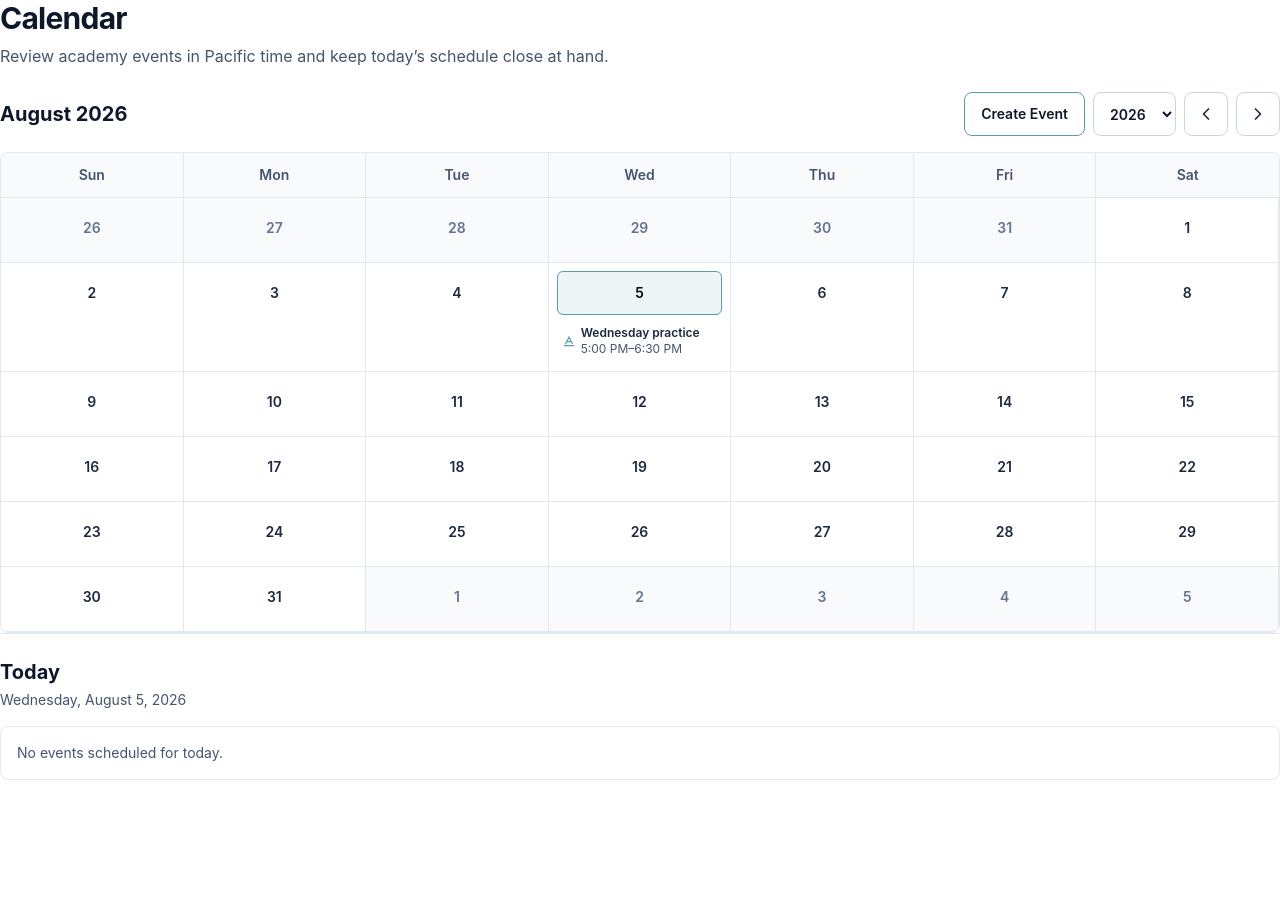
Test: CalendarPage › shows create, edit, and delete actions only to coaches
Step 1. Click the button "Create Event" → (1025, 114), box 964,92 -> 1085,136
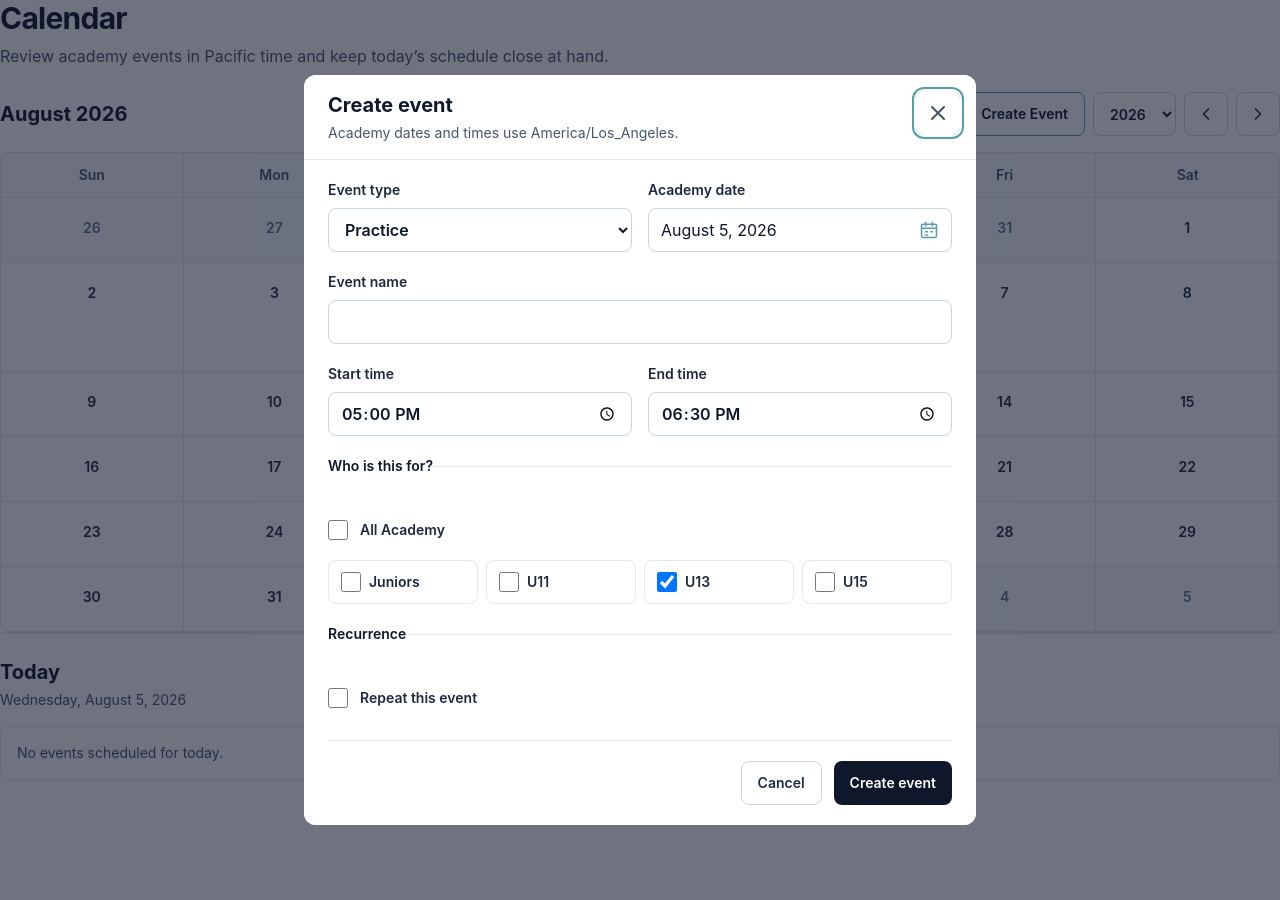
Result: the dialog "Create event" is shown at 304,75 -> 976,825
Step 2. Click the button named "Close create event" → (938, 113), box 916,91 -> 960,135
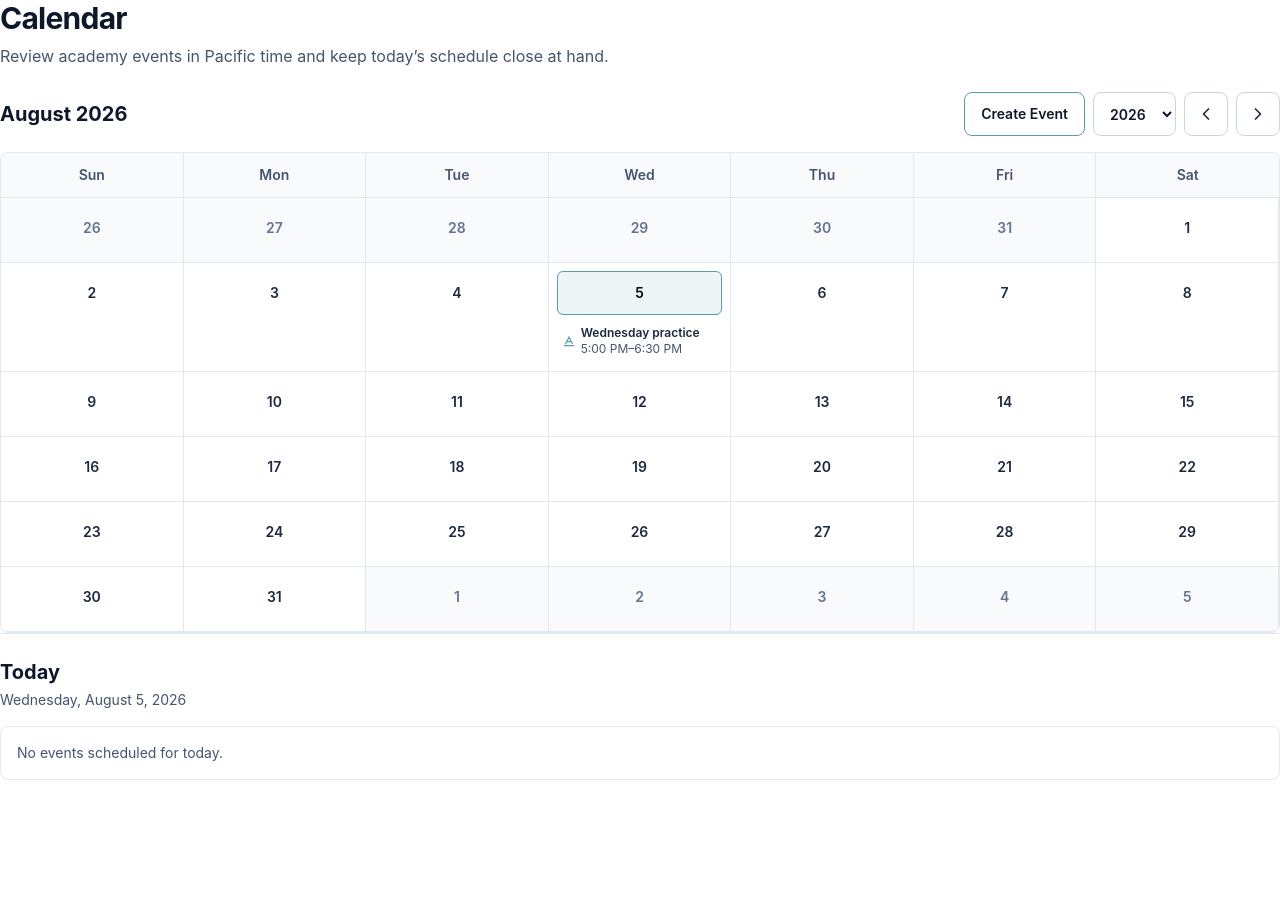
Step 3. Click the button with aria-label "Practice event: Wednesday practice" → (640, 341), box 557,319 -> 722,363
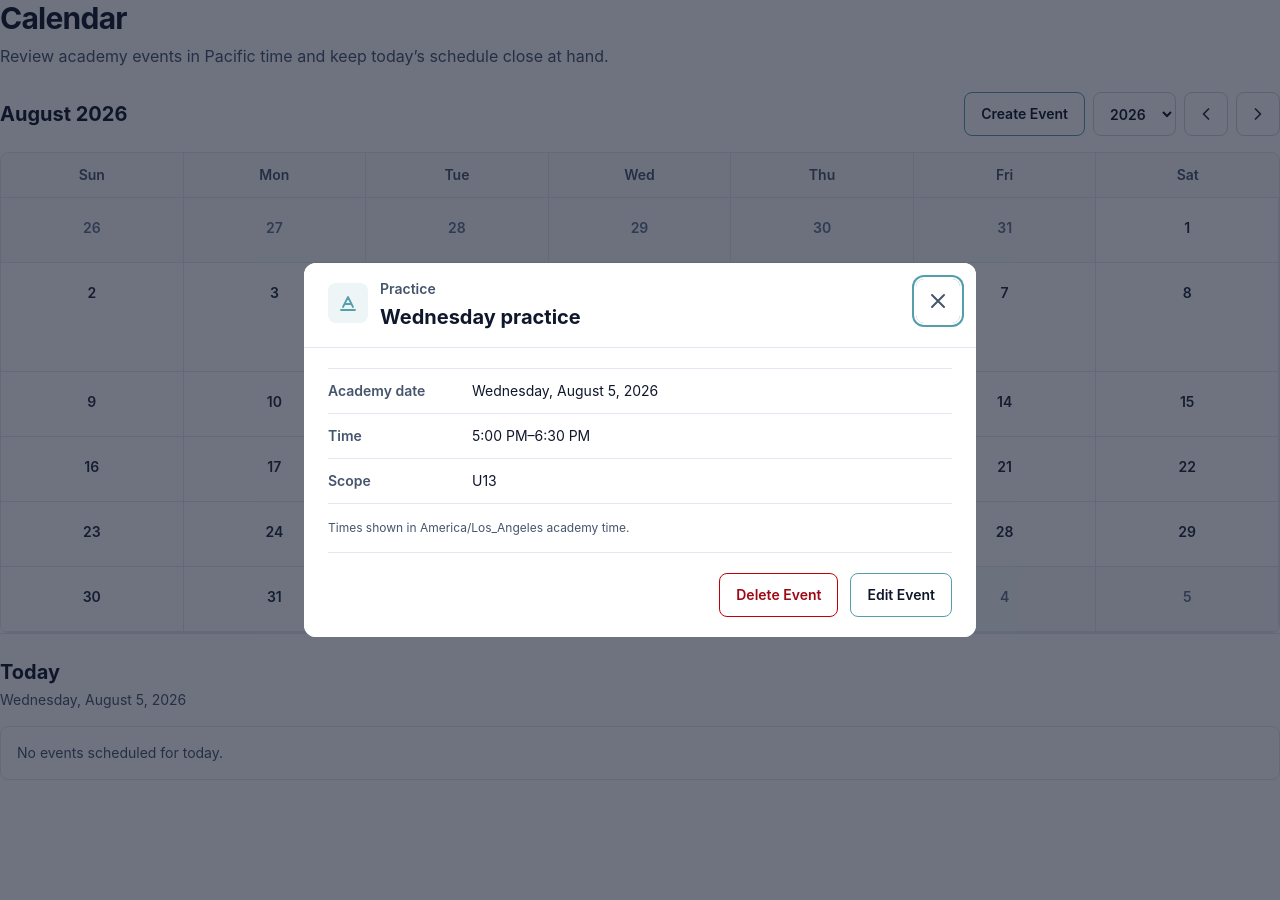
Result: the button "Edit Event" is shown at 850,573 -> 952,617
Result: the button "Delete Event" is shown at 719,573 -> 838,617
